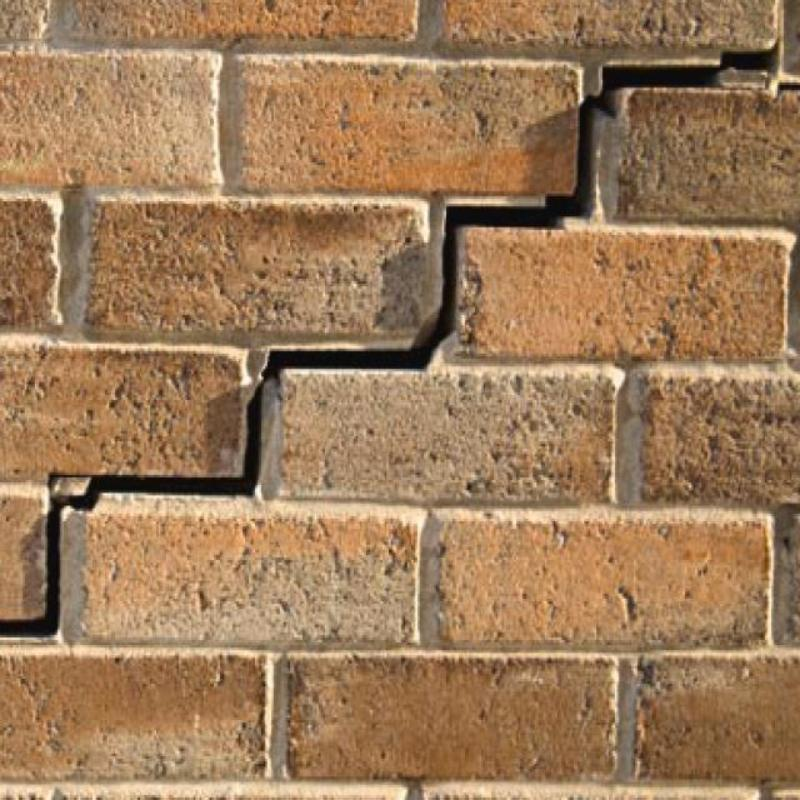crack: (0, 37, 780, 638), (46, 472, 90, 494), (778, 80, 799, 91)
